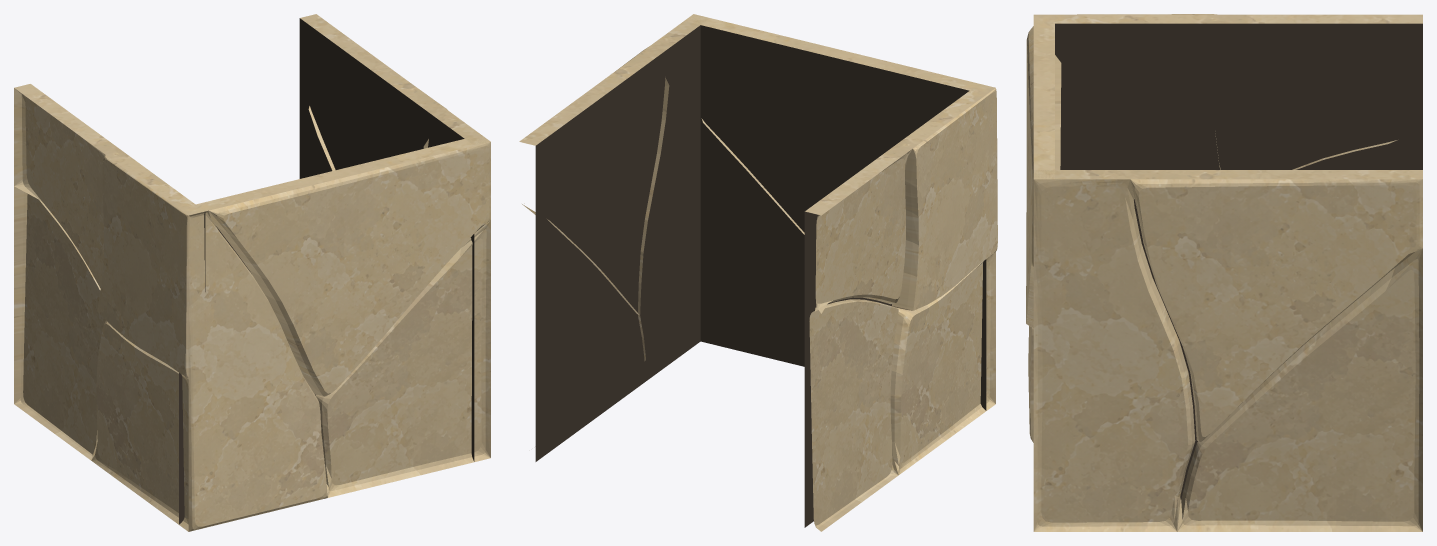
File: ground_square_end_05.glb
3 views of the same model, side by side, from view 1: azimuth 30°, elevation 25°; view 2: azimuth 150°, elevation 25°; view 3: azimuth 270°, elevation 25° (orthographic). The views are drawn at different scales.
Visible parts, largest first — view 1: GroundSquareEnd05_Body; view 2: GroundSquareEnd05_Body; view 3: GroundSquareEnd05_Body.
Boxes of the visible parts, x1,y1,x2,y2 form: GroundSquareEnd05_Body: (14,14,490,531); GroundSquareEnd05_Body: (519,14,997,531); GroundSquareEnd05_Body: (1026,14,1422,531).
Size of the model in its own units: 1.04 by 1 by 1.02.
12 materials, 11 textured.
